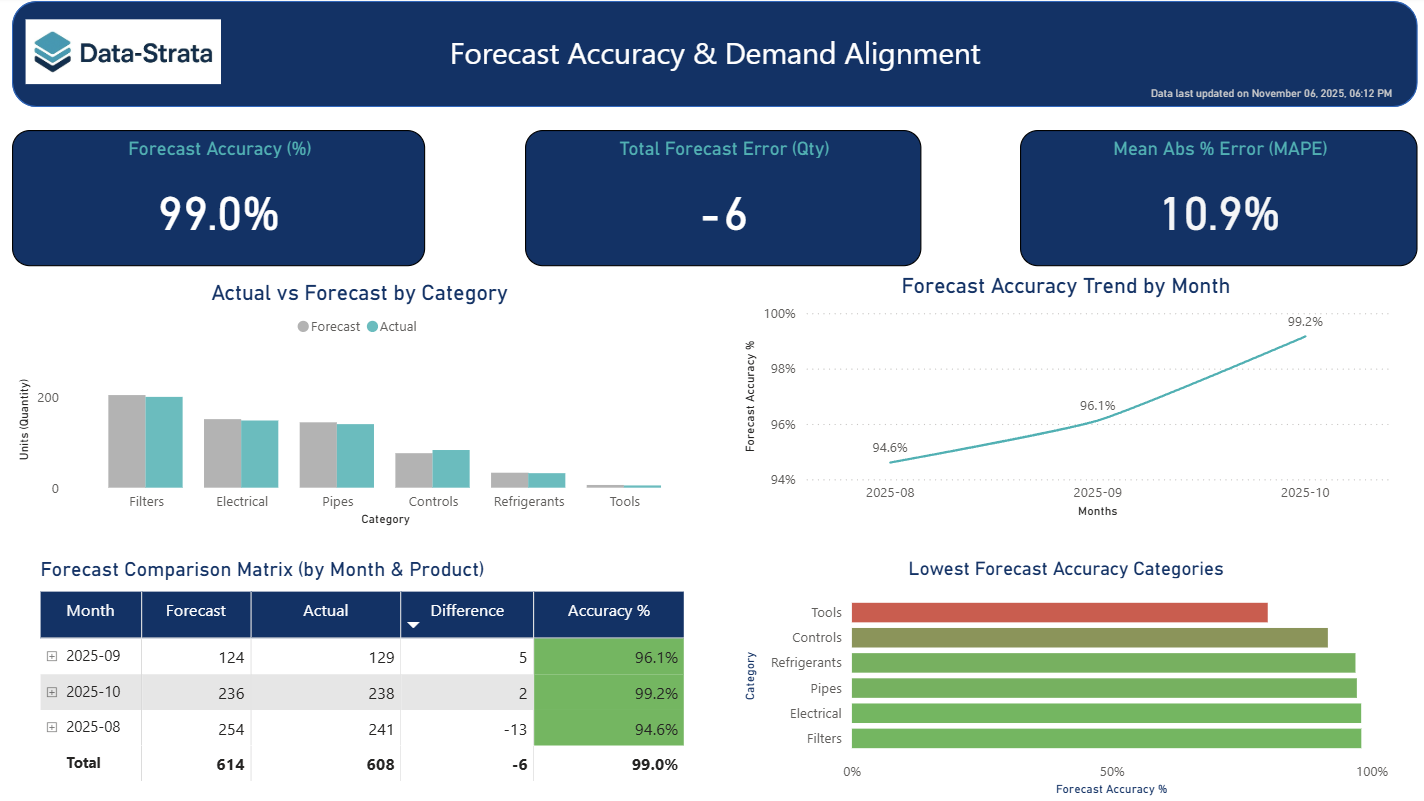

The dashboard page shown, as its layout file describes it:
{"tool":"powerbi","page":{"name":"Forecast Accuracy","canvas":[1280,720],"ordinal":3},"visuals":[{"type":"shape","box":[13.8,3.7,1258.8,95],"z":0,"group":"g1"},{"type":"card","title":"Forecast Accuracy (%)","fields":{"Values":["vw_ForecastVsActual.Forecast Accuracy %"]},"box":[13.4,119.1,369.9,121.8],"z":0},{"type":"textbox","box":[339.4,26.2,607.5,51.2],"z":1000,"group":"g1"},{"type":"card","title":"Total Forecast Error (Qty)","fields":{"Values":["vw_ForecastVsActual.Forecast Error Qty"]},"box":[472.4,119.1,354.6,121.8],"z":1000},{"type":"image","box":[20.9,0,185.1,98.2],"z":2000,"group":"g1"},{"type":"card","title":"Mean Abs % Error (MAPE)","fields":{"Values":["vw_ForecastVsActual.MAPE"]},"box":[916.1,119.1,356.4,121.8],"z":2000},{"type":"group","id":"g1","title":"Group 1","box":[13.8,0,1258.8,98.8],"z":3000},{"type":"pivotTable","title":"Forecast Comparison Matrix (by Month & Product)","fields":{"Rows":["vw_ForecastVsActual.ForecastMonth","vw_ForecastVsActual.Category","vw_ForecastVsActual.ProductName"],"Values":["Sum(vw_ForecastVsActual.ForecastQty)","Sum(vw_ForecastVsActual.ActualQty)","vw_ForecastVsActual.Forecast Error Qty","vw_ForecastVsActual.Forecast Accuracy %"]},"box":[33.8,501.2,602.5,210],"z":4000},{"type":"clusteredColumnChart","title":"Actual vs Forecast by Category","fields":{"Category":["vw_ForecastVsActual.Category"],"Y":["Sum(vw_ForecastVsActual.ForecastQty)","Sum(vw_ForecastVsActual.ActualQty)"]},"box":[13.8,253.8,622.5,225],"z":5000},{"type":"lineChart","title":"Forecast Accuracy Trend by Month","fields":{"Category":["vw_ForecastVsActual.ForecastMonth"],"Y":["vw_ForecastVsActual.Forecast Accuracy %"]},"box":[663.8,247.5,587.5,223.8],"z":6000},{"type":"clusteredBarChart","title":"Lowest Forecast Accuracy Categories","fields":{"Category":["vw_ForecastVsActual.Category"],"Y":["vw_ForecastVsActual.Forecast Accuracy %"]},"box":[663.8,501.2,587.5,218.8],"z":7000},{"type":"card","fields":{"Values":["_Measures.Last Refresh"]},"box":[1028.1,76.1,226.6,22.4],"z":8000}]}

Visuals, with their boxes in screenshot pixels (x1, y1, x2, y2), scaled from the page's 1280x720 canvas onto the 1424x801 screenshot:
shape: 15,4,1416,110
"Forecast Accuracy (%)" card: 15,132,426,268
textbox: 378,29,1053,86
"Total Forecast Error (Qty)" card: 526,132,920,268
image: 23,0,229,109
"Mean Abs % Error (MAPE)" card: 1019,132,1416,268
"Group 1" group: 15,0,1416,110
"Forecast Comparison Matrix (by Month & Product)" pivotTable: 38,558,708,791
"Actual vs Forecast by Category" clusteredColumnChart: 15,282,708,533
"Forecast Accuracy Trend by Month" lineChart: 738,275,1392,524
"Lowest Forecast Accuracy Categories" clusteredBarChart: 738,558,1392,800
card - _Measures.Last Refresh: 1144,85,1396,110
